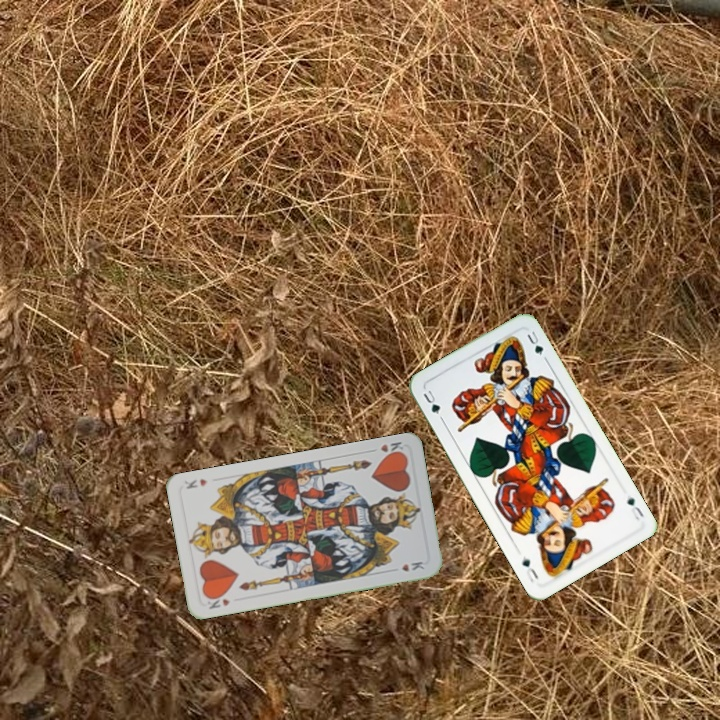GU: (419, 386, 445, 422), (623, 491, 647, 523)
HK: (366, 437, 407, 460), (202, 590, 233, 611)
